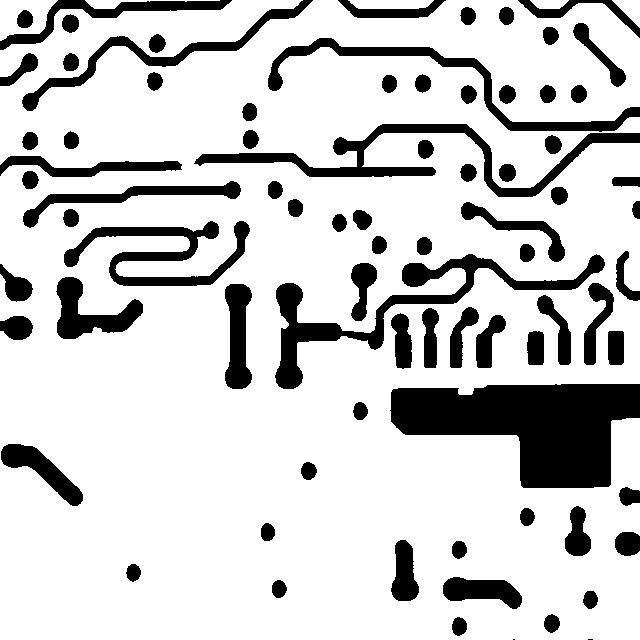copper: (343, 200, 381, 239)
mousebite: (266, 306, 298, 338), (448, 377, 483, 404), (82, 317, 111, 344)
open: (168, 146, 209, 179)
short: (324, 321, 382, 350), (347, 134, 373, 180), (183, 220, 218, 247)
